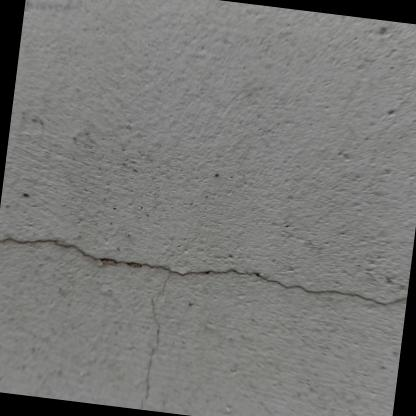crack: (0, 236, 407, 306)
